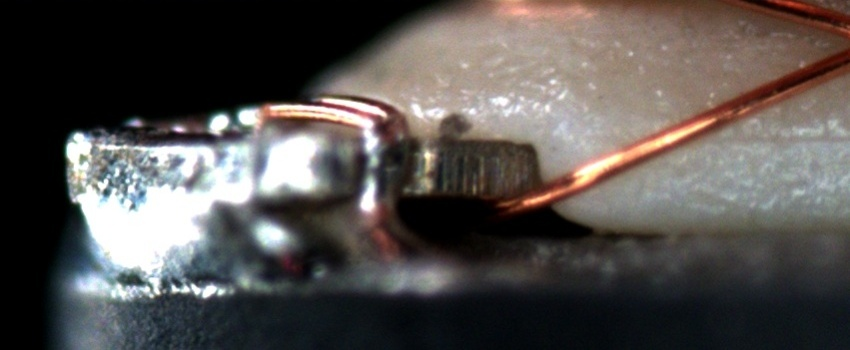DL: (699, 107, 849, 169)
TE: (244, 88, 407, 130)
